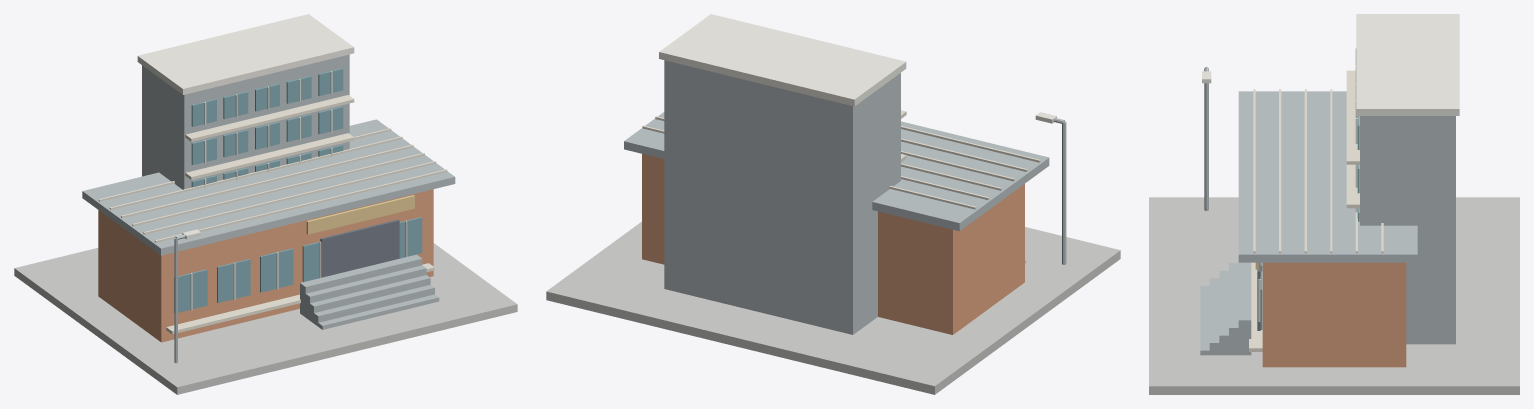
File: dot-P01.glb
The picture shows the model from 3 angles, left to right: view 1: azimuth 30°, elevation 25°; view 2: azimuth 150°, elevation 25°; view 3: azimuth 270°, elevation 25°; orthographic projection. The views are drawn at different scales.
Parts seen in each view (by area): view 1: pave; view 2: pave; view 3: pave.
Part boxes in pixels (bbox=[...]): pave: bbox=[14, 14, 517, 394]; pave: bbox=[546, 14, 1120, 394]; pave: bbox=[1149, 14, 1519, 394].
Size of the model in its own units: 6.08 by 3.68 by 5.04.
1 material, 1 textured.
